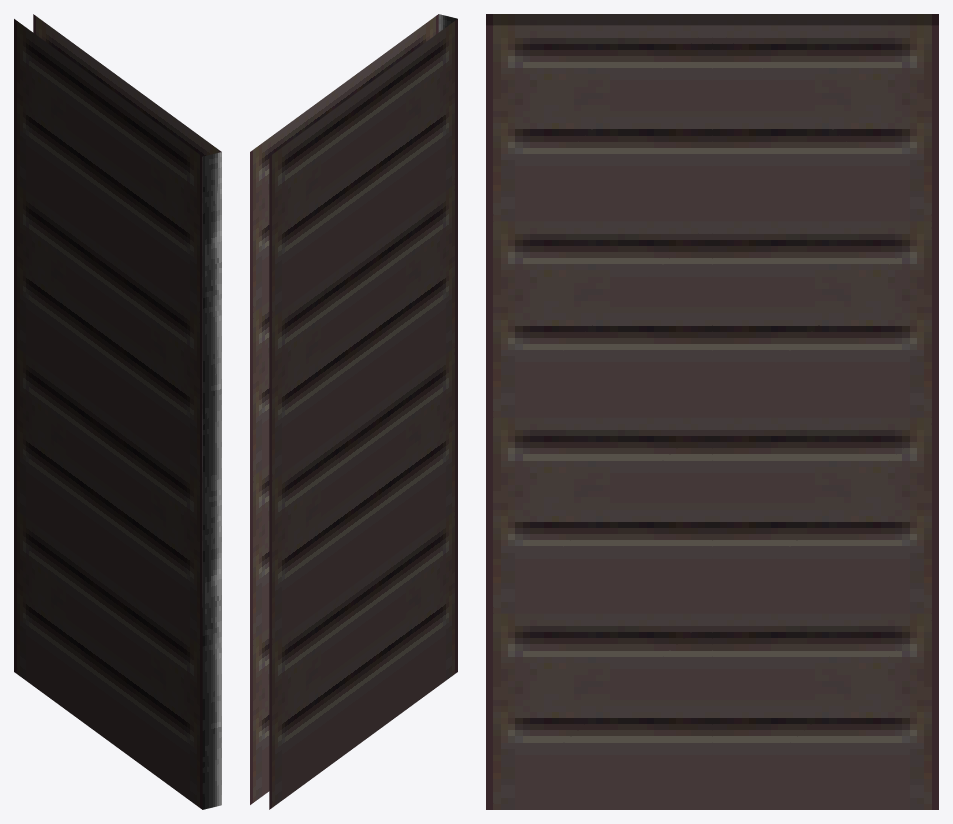
Rendered from primary_16.glb.
The picture shows the model from 3 angles, left to right: view 1: azimuth 30°, elevation 25°; view 2: azimuth 150°, elevation 25°; view 3: azimuth 270°, elevation 25°; orthographic projection. The views are drawn at different scales.
Parts seen in each view (by area): view 1: Object; view 2: Object; view 3: Object.
Boxes of the visible parts, box(x1,y1,x2,y2) form: Object: box(14, 14, 221, 809); Object: box(250, 14, 457, 809); Object: box(486, 14, 938, 809).
Bounding box in the file's own units: 0.096 × 3.12 × 1.63.
Materials: 3 (3 with a texture image).
